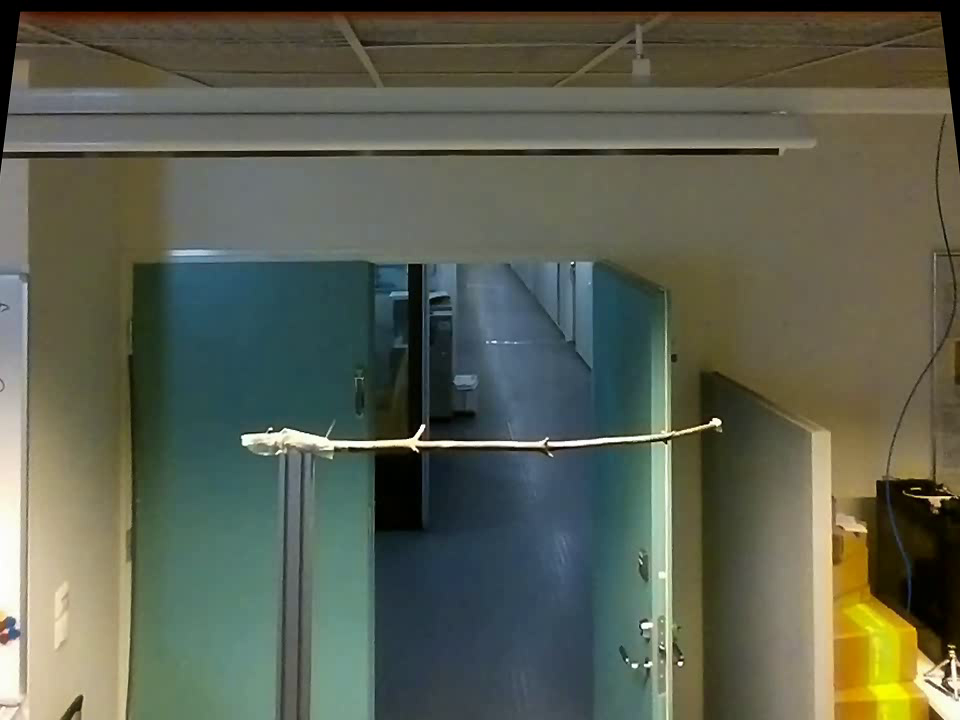aluminum_frame: (271, 453, 315, 717)
branch: (340, 415, 710, 463)
